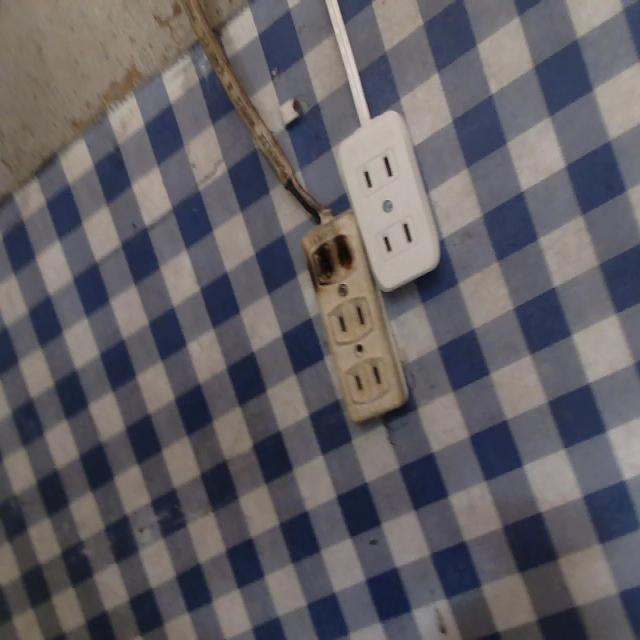-: (299, 229, 364, 287)
